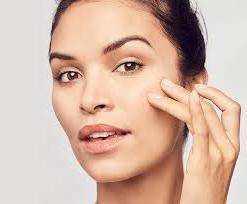face: (52, 1, 182, 183)
